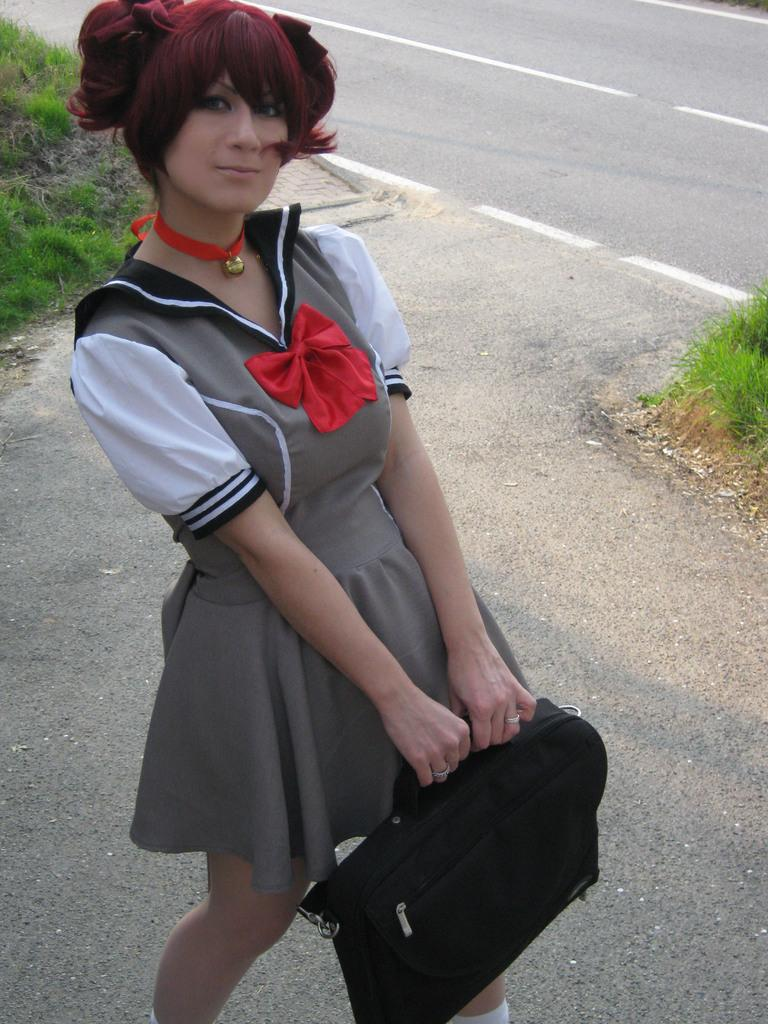Luggage-and-bags: (310, 698, 614, 1020)
